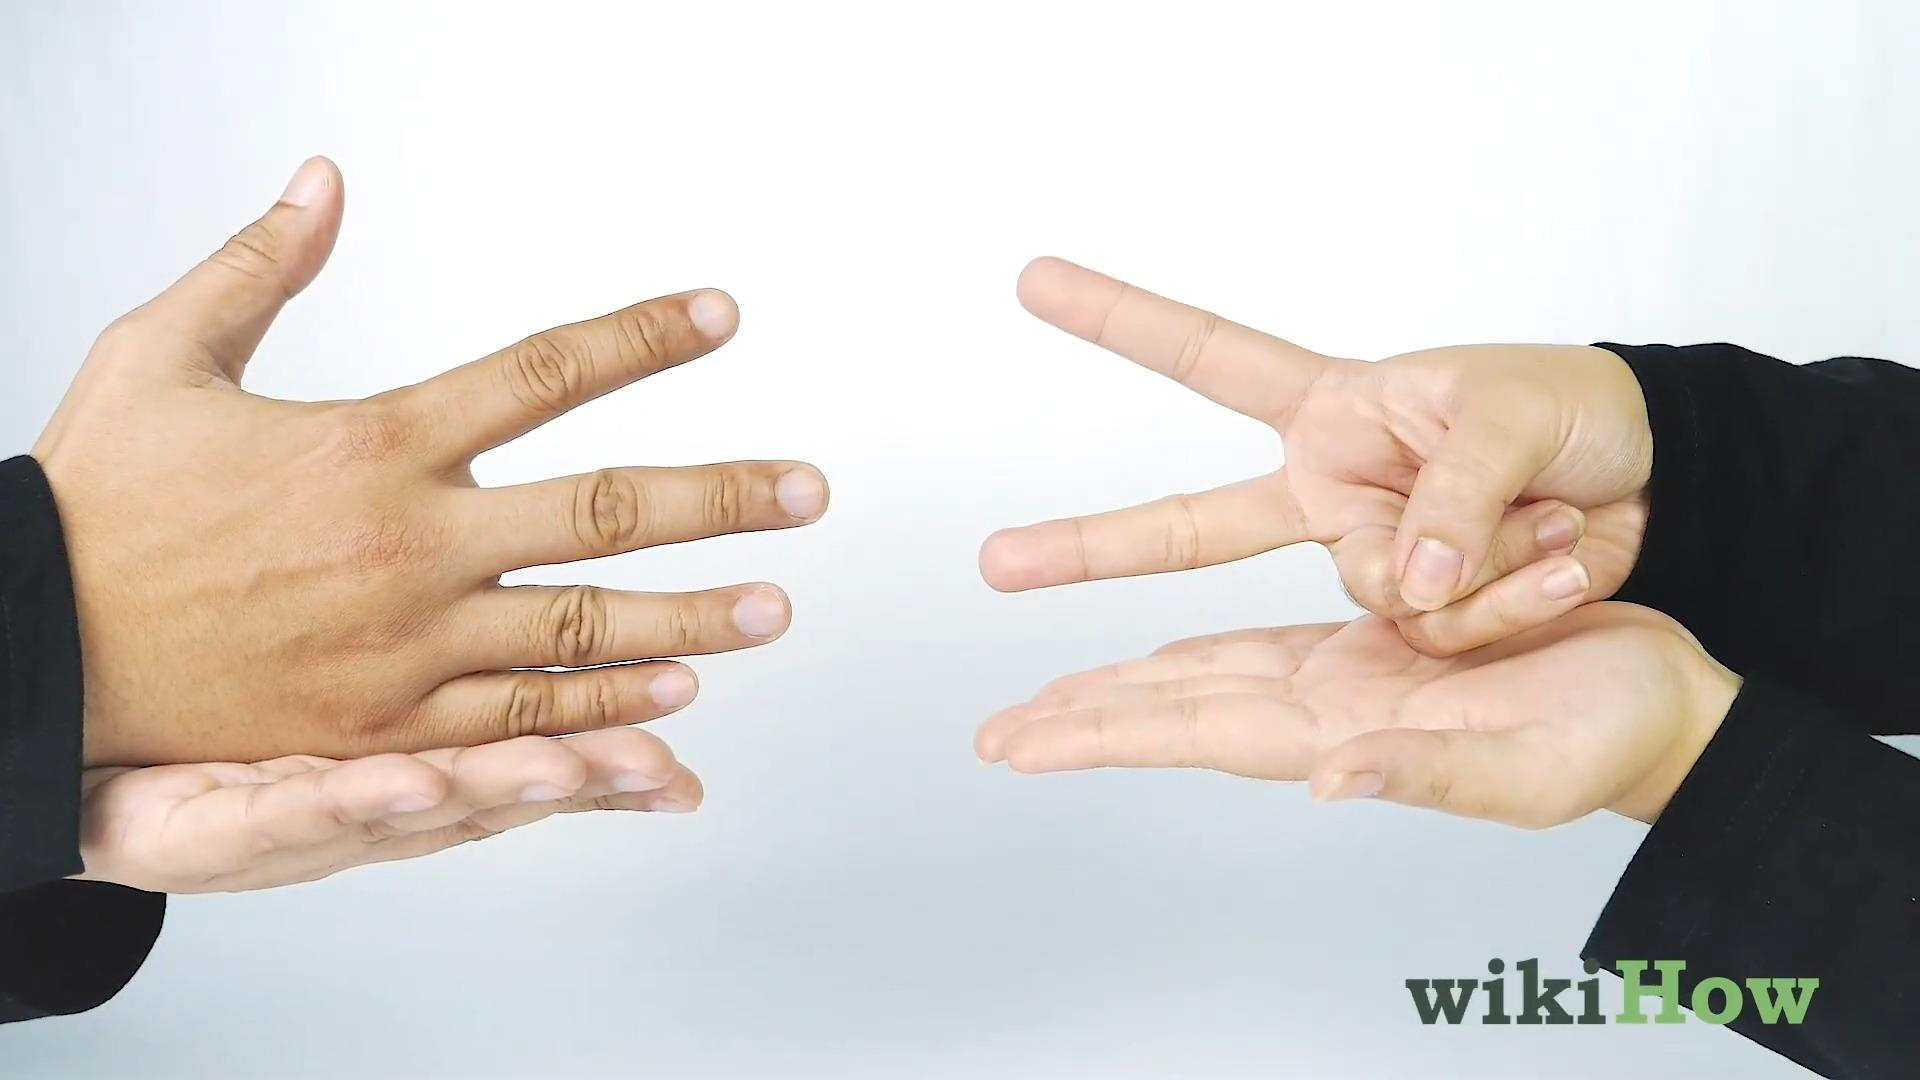Paper: (47, 156, 835, 769)
Scissors: (975, 255, 1650, 655)
